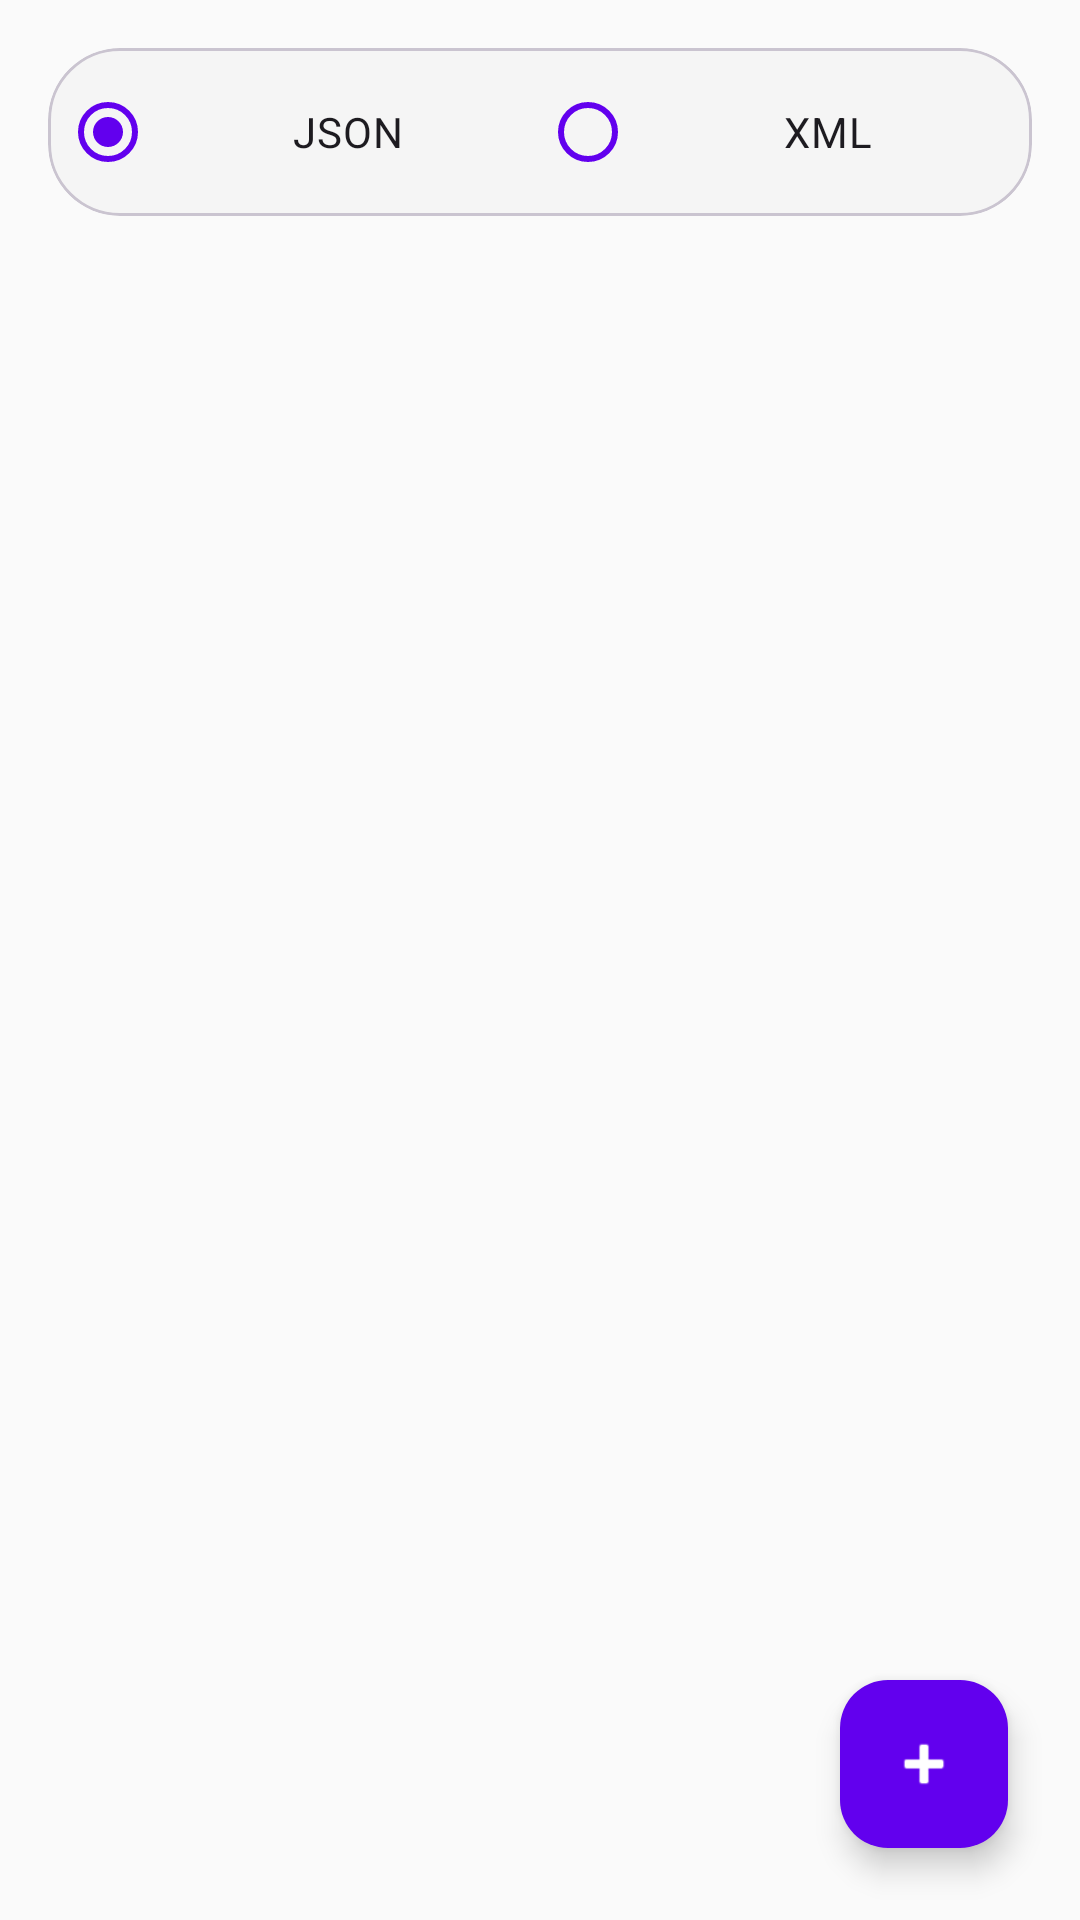

Where icons sit on this 1080px x 1920px app screen, as (x1, y1, x2, y2):
Ajouter un compte: (840, 1680, 1008, 1848)
